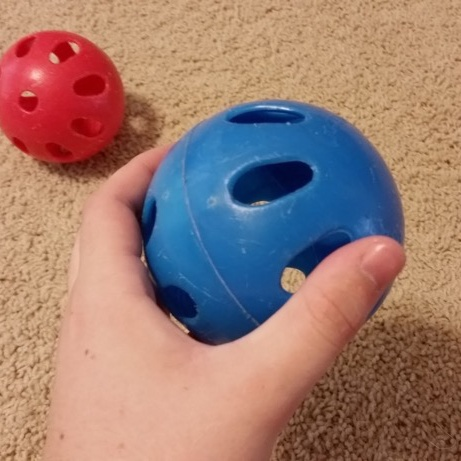ball: (134, 94, 411, 359), (1, 26, 128, 162)
